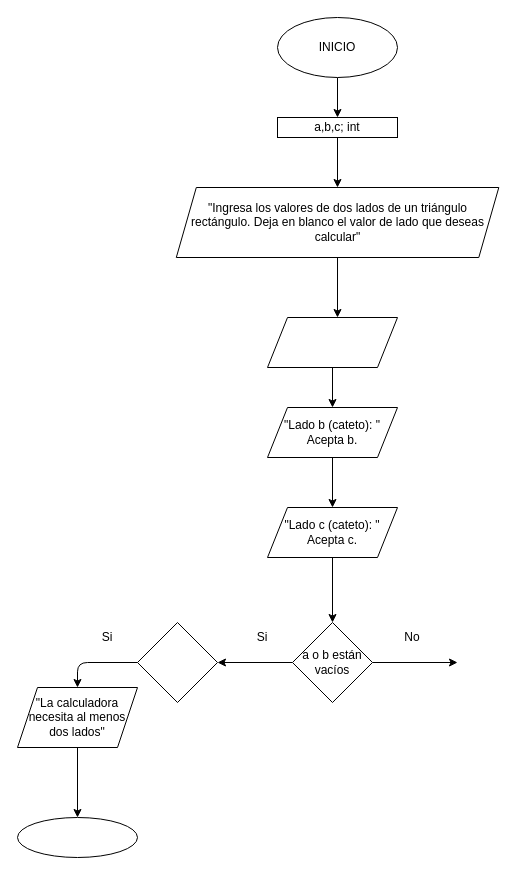
Some shapes in this 517 by 875 pixel diagram are drawn without their labels. The shapes that lost their labels are listed below. From the top down, each one's box as (x1, y1, x2, y2) in pixels, then its label:
(266, 316, 398, 368): "Lado a (cateto): " Acepta a.
(136, 622, 218, 702): a y b están vacíos
(16, 816, 138, 858): FIN
